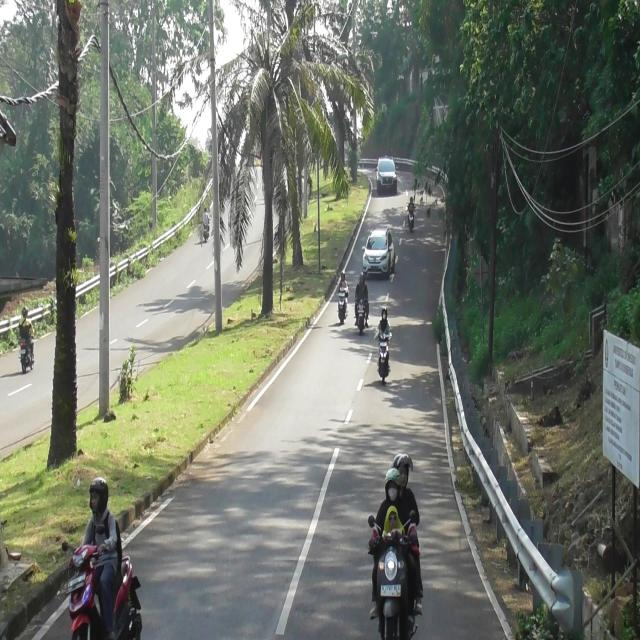motorcycle: (60, 526, 143, 639), (370, 514, 419, 640), (377, 330, 390, 385), (21, 336, 35, 372), (338, 286, 348, 324), (357, 298, 365, 333), (203, 222, 210, 243), (408, 208, 414, 231)
person: (76, 478, 121, 638), (392, 454, 423, 614), (374, 468, 416, 541), (383, 506, 404, 536), (19, 306, 35, 342), (355, 272, 369, 306), (376, 307, 391, 338), (336, 270, 349, 292), (202, 206, 210, 225), (408, 196, 416, 212)
rider_region: (66, 475, 142, 640), (370, 447, 424, 640), (377, 301, 394, 381), (16, 300, 34, 370), (336, 265, 350, 327), (355, 270, 368, 336), (200, 200, 210, 240), (407, 196, 417, 236)
